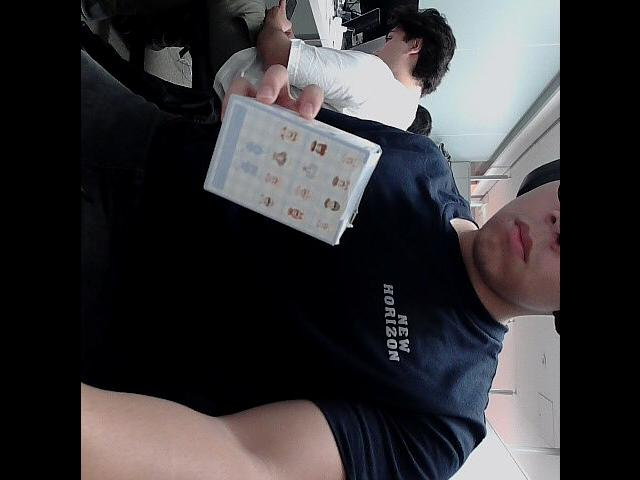Blind_box: (201, 96, 385, 252)
